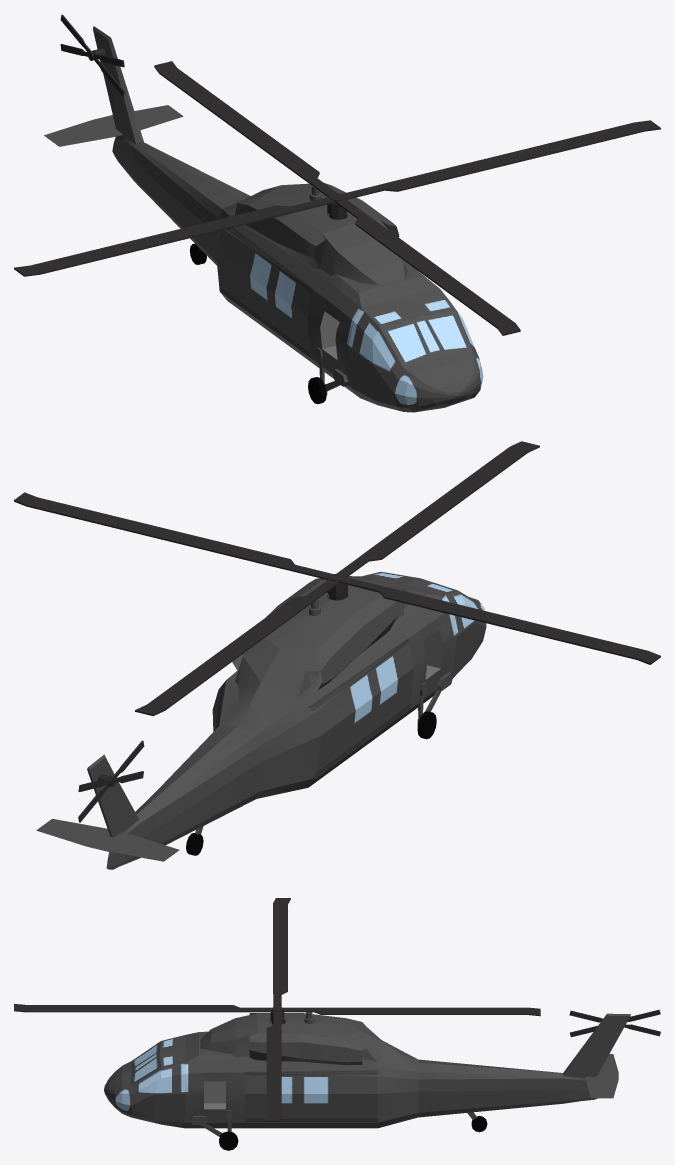
File: Chopper_03.fbx
3 renders of one model, top to bottom at view 1: azimuth 30°, elevation 25°; view 2: azimuth 150°, elevation 25°; view 3: azimuth 270°, elevation 25°, orthographic. The views are drawn at different scales.
Visible parts, largest first — view 1: Chopper_03_Body, Chopper_02_MainPropel, Chopper_02_SubPropel; view 2: Chopper_03_Body, Chopper_02_MainPropel, Chopper_02_SubPropel; view 3: Chopper_03_Body, Chopper_02_MainPropel, Chopper_02_SubPropel.
Boxes of the visible parts, x1=… form: Chopper_03_Body: x1=44, y1=26, x2=483, y2=412; Chopper_02_MainPropel: x1=14, y1=61, x2=660, y2=335; Chopper_02_SubPropel: x1=60, y1=14, x2=124, y2=96; Chopper_03_Body: x1=36, y1=572, x2=486, y2=869; Chopper_02_MainPropel: x1=14, y1=441, x2=660, y2=716; Chopper_02_SubPropel: x1=78, y1=740, x2=144, y2=822; Chopper_03_Body: x1=104, y1=1012, x2=630, y2=1150; Chopper_02_MainPropel: x1=14, y1=898, x2=540, y2=1121; Chopper_02_SubPropel: x1=569, y1=1009, x2=660, y2=1037.
Size of the model in its own units: 119 by 30.38 by 146.
